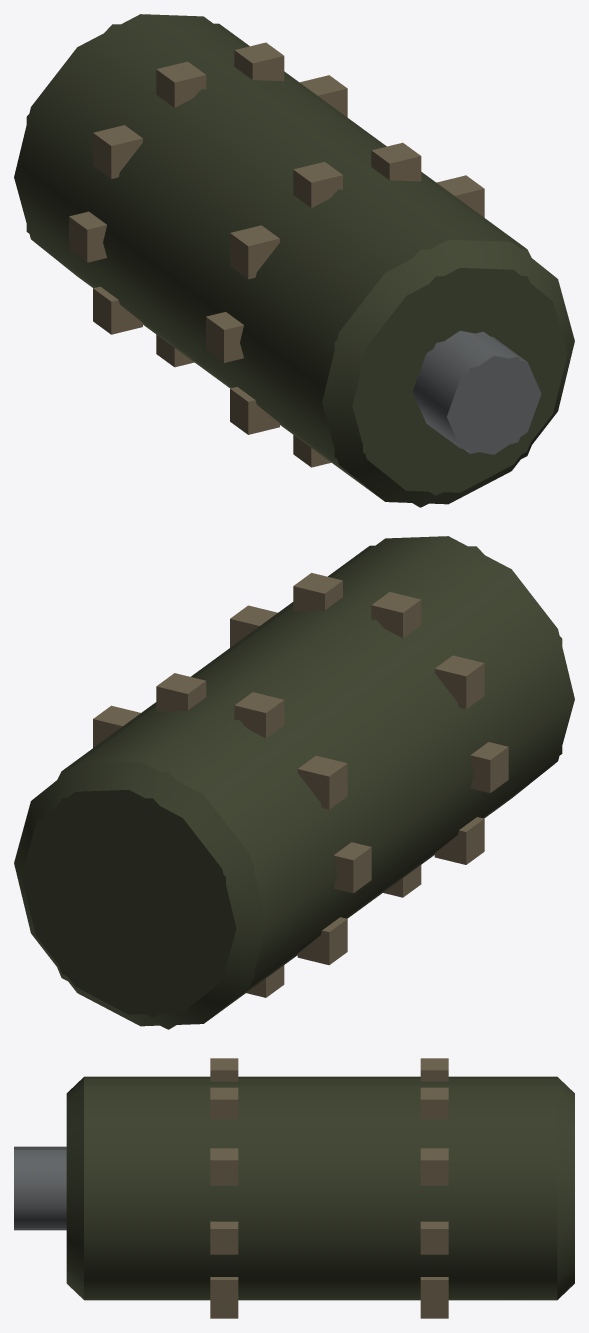
The model's file is gr_rattle.glb.
The picture shows the model from 3 angles, top to bottom: view 1: azimuth 30°, elevation 25°; view 2: azimuth 150°, elevation 25°; view 3: azimuth 270°, elevation 25°; orthographic projection. The views are drawn at different scales.
Visible parts, largest first — view 1: L0, L1; view 2: L0, L1; view 3: L0, L1.
Part boxes in pixels (box(x1,y1,x2,y2)): L0: box(14, 14, 574, 504); L1: box(26, 23, 566, 507); L0: box(14, 536, 574, 1026); L1: box(21, 545, 562, 1029); L0: box(14, 1058, 574, 1318); L1: box(14, 1078, 574, 1297).
Bounding box in the file's own units: 0.072 × 0.0689 × 0.16.
